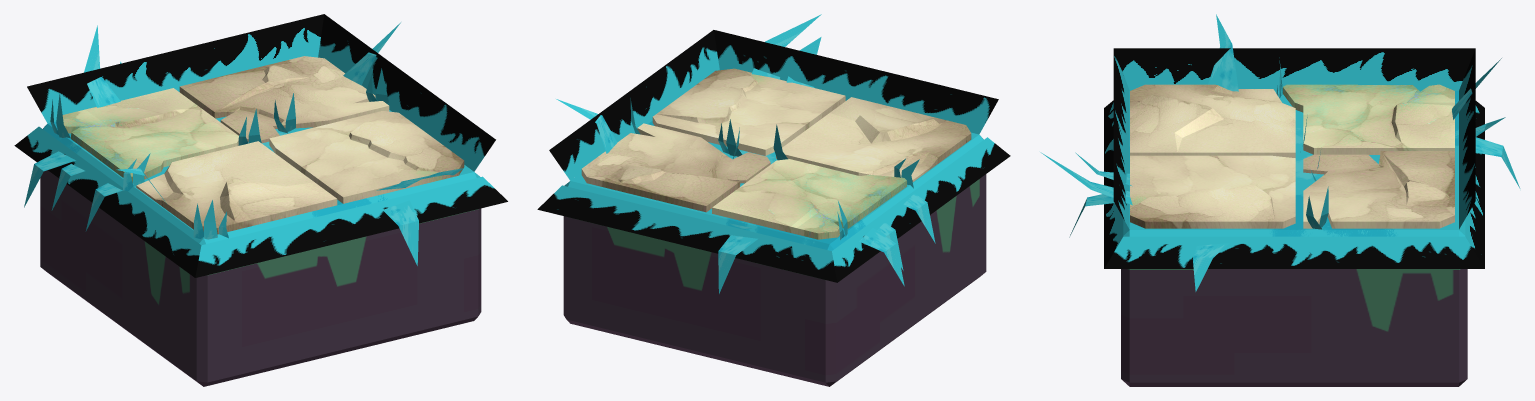
File: tilegrasscyan003.glb
The picture shows the model from 3 angles, left to right: view 1: azimuth 30°, elevation 25°; view 2: azimuth 150°, elevation 25°; view 3: azimuth 270°, elevation 25°; orthographic projection. The views are drawn at different scales.
Visible parts, largest first — view 1: tilegrasscyan003; view 2: tilegrasscyan003; view 3: tilegrasscyan003.
Part boxes in pixels (x1,y1,x2,y2): tilegrasscyan003: (14, 14, 507, 386); tilegrasscyan003: (537, 14, 1010, 386); tilegrasscyan003: (1040, 14, 1520, 386).
Size of the model in its own units: 1.3 by 0.7231 by 1.39.
Materials: 2 (2 with a texture image).
